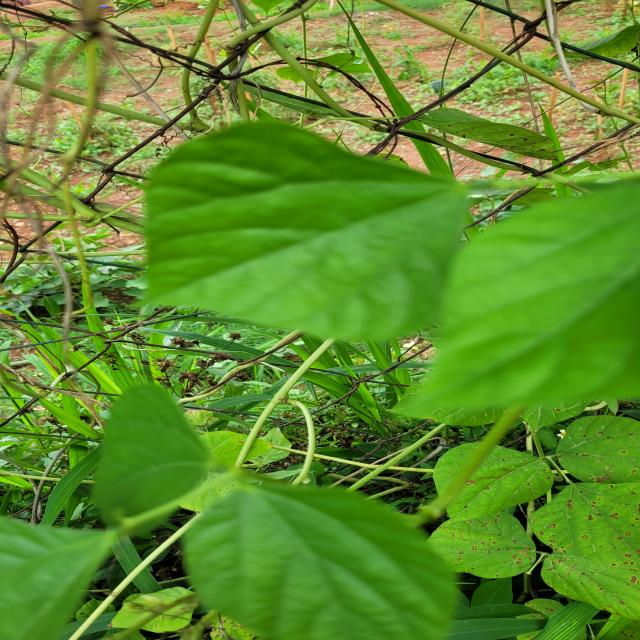Dolicos bean_cercospora leaf spot: (418, 431, 562, 520), (418, 513, 547, 580), (539, 471, 640, 553), (534, 405, 640, 483), (551, 542, 640, 621)
Dolicos bean_healthy: (116, 116, 479, 346), (404, 143, 640, 429), (181, 476, 447, 640), (57, 367, 215, 511)
